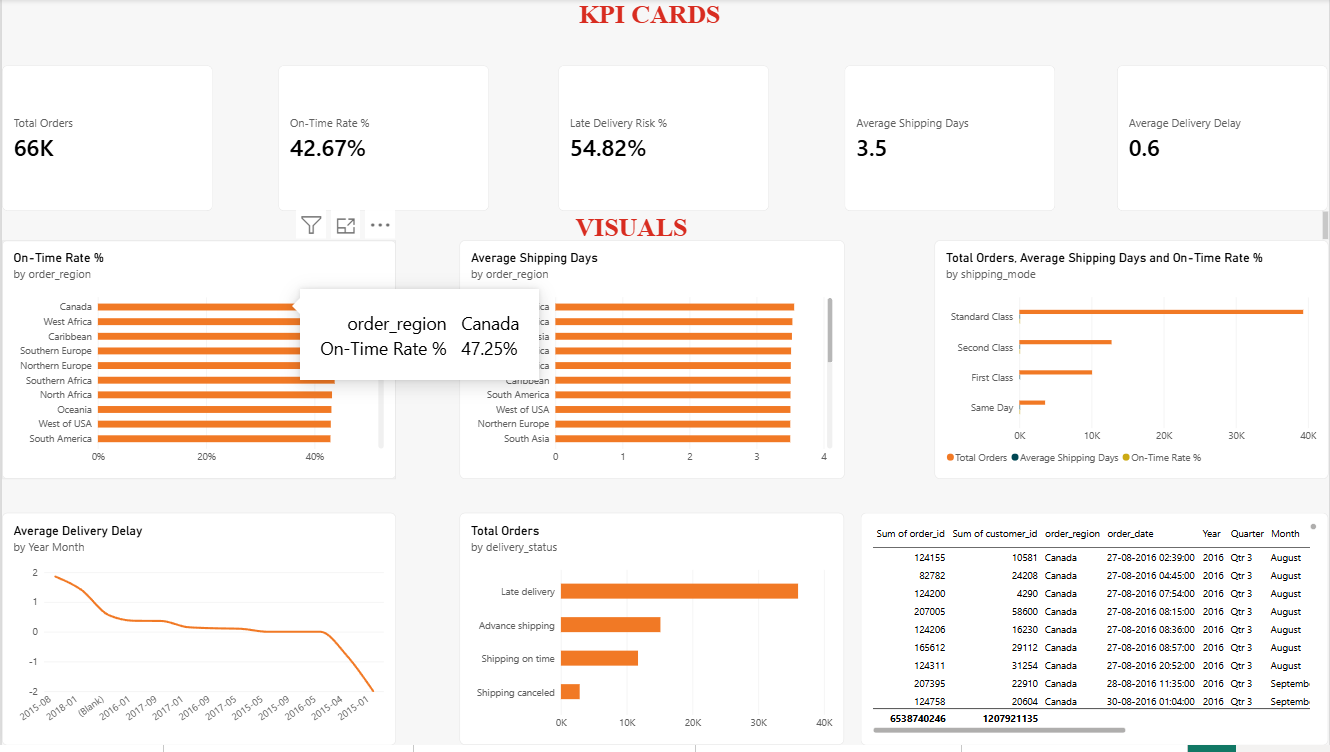

What the dashboard file says about the page in this screenshot:
{"tool":"powerbi","page":{"name":"Order Fulfillment Intelligence","canvas":[1920,1080],"ordinal":1},"visuals":[{"type":"textbox","box":[10.9,0,1909.2,45.2],"z":0},{"type":"cardVisual","fields":{"Data":["Measure Table.Total Orders"]},"box":[0,95.9,305.8,211.7],"z":6},{"type":"cardVisual","fields":{"Data":["Measure Table.On-Time Rate %"]},"box":[399.9,95.9,305.8,211.7],"z":7},{"type":"cardVisual","fields":{"Data":["Measure Table.Late Delivery Risk %"]},"box":[805.3,95.9,305.8,211.7],"z":8},{"type":"cardVisual","fields":{"Data":["Measure Table.Average Shipping Days"]},"box":[1219.7,95.9,305.8,211.7],"z":9},{"type":"cardVisual","fields":{"Data":["Measure Table.Average Delivery Delay"]},"box":[1614.2,95.9,305.8,211.7],"z":10},{"type":"textbox","box":[0,307.6,1920.1,41.6],"z":11},{"type":"clusteredBarChart","fields":{"Category":["dataco_supply_chain_clean.order_region"],"Y":["Measure Table.On-Time Rate %"]},"box":[0,349.3,570,345.6],"z":12},{"type":"clusteredBarChart","fields":{"Category":["dataco_supply_chain_clean.order_region"],"Y":["Measure Table.Average Shipping Days"]},"box":[662.3,349.3,557.4,345.6],"z":13},{"type":"clusteredBarChart","fields":{"Category":["dataco_supply_chain_clean.shipping_mode"],"Y":["Measure Table.Total Orders","Measure Table.Average Shipping Days","Measure Table.On-Time Rate %"]},"box":[1350,349.3,570,345.6],"z":14},{"type":"lineChart","fields":{"Category":["DateTable.Year Month"],"Y":["Measure Table.Average Delivery Delay"]},"box":[0,743.8,570,336.6],"z":15},{"type":"barChart","fields":{"Category":["dataco_supply_chain_clean.delivery_status"],"Y":["Measure Table.Total Orders"]},"box":[662.3,743.8,557,336],"z":16},{"type":"tableEx","fields":{"Values":["Sum(dataco_supply_chain_clean.order_id)","Sum(dataco_supply_chain_clean.customer_id)","dataco_supply_chain_clean.order_region","dataco_supply_chain_clean.order_date","dataco_supply_chain_clean.shipping_date.Variation.Date Hierarchy.Year","dataco_supply_chain_clean.shipping_date.Variation.Date Hierarchy.Quarter","dataco_supply_chain_clean.shipping_date.Variation.Date Hierarchy.Month","dataco_supply_chain_clean.shipping_date.Variation.Date Hierarchy.Day","Sum(dataco_supply_chain_clean.delivery_delay_days)","dataco_supply_chain_clean.delivery_status","dataco_supply_chain_clean.shipping_mode"]},"box":[1243.2,743.8,676.8,336.6],"z":17}]}

Visuals, with their boxes in screenshot pixels (x1, y1, x2, y2), scaled from the page's 1920x1080 canvas onto the 1330x752 screenshot:
textbox: (x1=8, y1=0, x2=1329, y2=31)
cardVisual - Measure Table.Total Orders: (x1=0, y1=67, x2=212, y2=214)
cardVisual - Measure Table.On-Time Rate %: (x1=277, y1=67, x2=489, y2=214)
cardVisual - Measure Table.Late Delivery Risk %: (x1=558, y1=67, x2=770, y2=214)
cardVisual - Measure Table.Average Shipping Days: (x1=845, y1=67, x2=1057, y2=214)
cardVisual - Measure Table.Average Delivery Delay: (x1=1118, y1=67, x2=1329, y2=214)
textbox: (x1=0, y1=214, x2=1329, y2=243)
clusteredBarChart - dataco_supply_chain_clean.order_region x Measure Table.On-Time Rate %: (x1=0, y1=243, x2=395, y2=484)
clusteredBarChart - dataco_supply_chain_clean.order_region x Measure Table.Average Shipping Days: (x1=459, y1=243, x2=845, y2=484)
clusteredBarChart - dataco_supply_chain_clean.shipping_mode x Measure Table.Total Orders: (x1=935, y1=243, x2=1329, y2=484)
lineChart - DateTable.Year Month x Measure Table.Average Delivery Delay: (x1=0, y1=518, x2=395, y2=751)
barChart - dataco_supply_chain_clean.delivery_status x Measure Table.Total Orders: (x1=459, y1=518, x2=845, y2=751)
tableEx - Sum(dataco_supply_chain_clean.order_id) x Sum(dataco_supply_chain_clean.customer_id): (x1=861, y1=518, x2=1329, y2=751)
